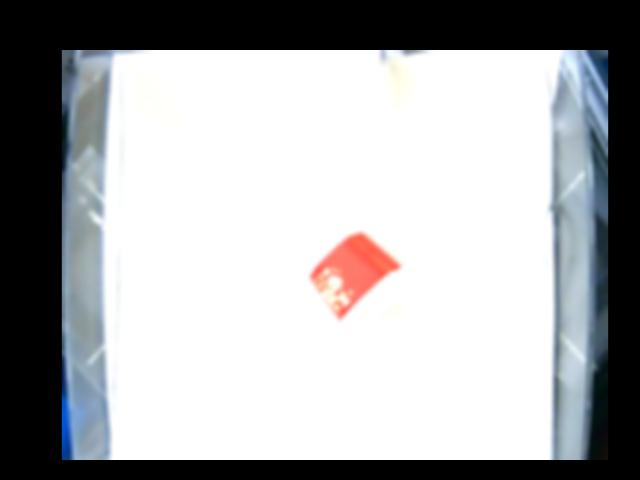Cup: (303, 222, 415, 332)
